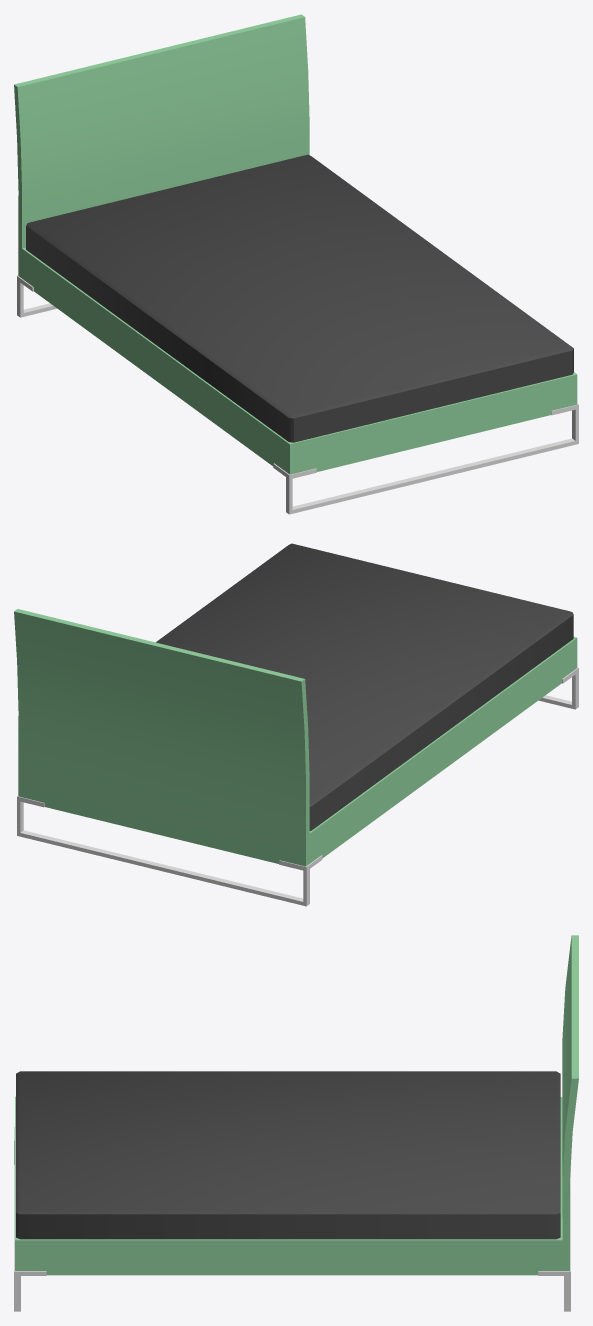
The model's file is MZABD05.FBX.
3 views of the same model, one above another, from view 1: azimuth 30°, elevation 25°; view 2: azimuth 150°, elevation 25°; view 3: azimuth 270°, elevation 25° (orthographic). The views are drawn at different scales.
Visible parts, largest first — view 1: MZABD05; view 2: MZABD05; view 3: MZABD05.
Boxes of the visible parts, x1,y1,x2,y2 form: MZABD05: (14, 14, 578, 514); MZABD05: (14, 543, 578, 906); MZABD05: (14, 935, 578, 1311).
Bounding box in the file's own units: 126 × 208 × 94.36.
